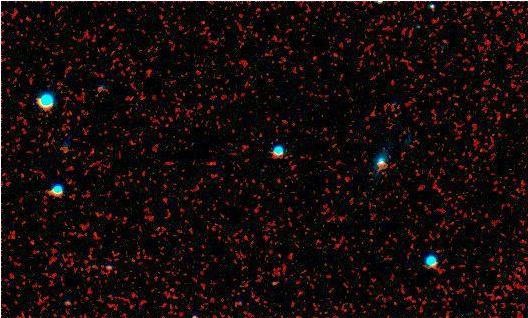star: (416, 0, 446, 21)
